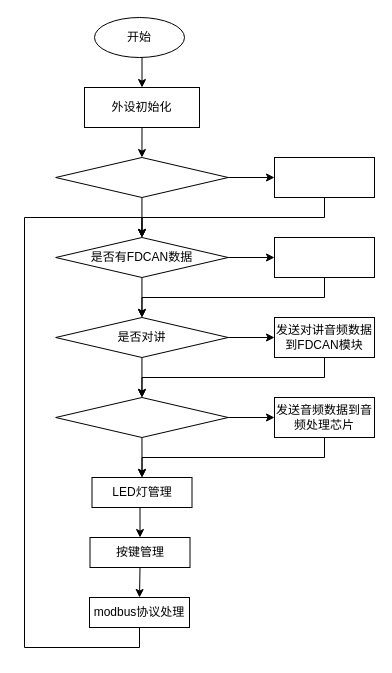
This 392x673 diagram has some shape labels left out. Here are the shapes that lost their labels. From the top down, the centre of each, then its label:
At point (141, 177): "读取设备信息".
At point (324, 177): "设置设备信息为默认值".
At point (324, 257): "解析并请求设置为对应状态".
At point (141, 417): "是否有音频数据".
